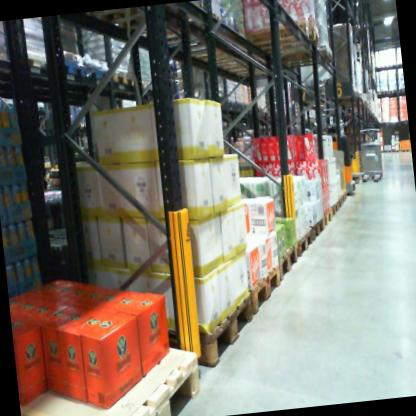forklift: (306, 105, 361, 197)
pallet: (16, 338, 223, 416), (140, 285, 260, 370), (244, 10, 323, 58), (246, 255, 288, 320), (274, 43, 338, 74), (276, 242, 303, 290), (54, 50, 86, 81), (108, 63, 138, 94), (82, 58, 110, 87), (295, 225, 316, 262), (309, 212, 326, 242), (321, 203, 334, 228), (327, 195, 339, 221), (336, 190, 345, 214), (223, 94, 236, 109), (233, 98, 244, 110), (378, 89, 390, 98), (343, 190, 348, 206), (391, 146, 401, 153), (389, 88, 399, 95), (397, 87, 405, 95), (401, 148, 410, 154), (383, 147, 392, 153)
